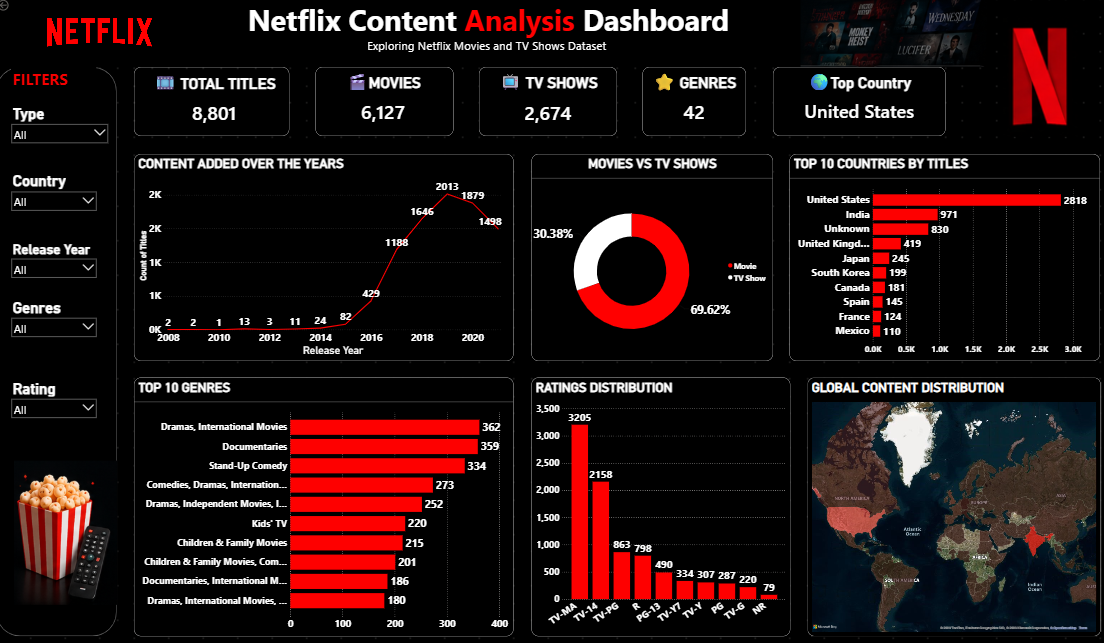

Layout of this report page (visuals, bound fields, positions):
{"tool":"powerbi","page":{"name":"Page 1","canvas":[3090,1820],"ordinal":0},"visuals":[{"type":"donutChart","title":"MOVIES VS TV SHOWS","fields":{"Y":["Count(netflix_titles.show_id)"],"Category":["netflix_titles.type"]},"box":[1488,432,672,576],"z":0},{"type":"barChart","title":"TOP 10 COUNTRIES BY TITLES","fields":{"Category":["netflix_titles.country"],"Y":["CountNonNull(netflix_titles.show_id)"]},"box":[2208,432,864,576],"z":1000},{"type":"barChart","title":"TOP 10 GENRES","fields":{"Category":["netflix_titles.listed_in"],"Y":["Count(netflix_titles.show_id)"]},"box":[384,1056,1056,720],"z":2000},{"type":"image","box":[0,0,576,192],"z":3000},{"type":"actionButton","box":[0,0,100,40],"z":4000},{"type":"cardVisual","title":"🎬MOVIES","fields":{"Data":["netflix_titles.Movies Count"]},"box":[888,192,384,192],"z":5000},{"type":"cardVisual","title":"⭐ GENRES","fields":{"Data":["Genres_table.Total Genres"]},"box":[1800,192,288,192],"z":6000},{"type":"cardVisual","title":"📺 TV SHOWS","fields":{"Data":["netflix_titles.TV Shows Count"]},"box":[1344,192,384,192],"z":7000},{"type":"cardVisual","title":"🌍Top Country","fields":{"Data":["netflix_titles.Top Netflix Country"]},"box":[2160,192,480,192],"z":8000},{"type":"textbox","box":[432,0,1872,192],"z":9000},{"type":"shape","box":[0,192,336,1584],"z":10000},{"type":"slicer","fields":{"Values":["netflix_titles.type"]},"box":[32,288,288,128],"z":11000},{"type":"slicer","fields":{"Values":["netflix_titles.release_year"]},"box":[32,672,256,160],"z":12000},{"type":"slicer","fields":{"Values":["netflix_titles.country"]},"box":[32,480,256,128],"z":13000},{"type":"slicer","fields":{"Values":["netflix_titles.listed_in"]},"box":[32,832,256,160],"z":14000},{"type":"clusteredColumnChart","title":"RATINGS DISTRIBUTION","fields":{"Category":["netflix_titles.rating"],"Y":["CountNonNull(netflix_titles.show_id)"]},"box":[1488,1056,720,720],"z":15000},{"type":"image","box":[48,1248,288,480],"z":16000},{"type":"cardVisual","title":"🎞️ TOTAL TITLES","fields":{"Data":["netflix_titles.Title count"]},"box":[384,192,432,192],"z":17000},{"type":"image","box":[1968,0,1056,192],"z":18000},{"type":"textbox","box":[41.4,193.3,237.5,80.1],"z":19000},{"type":"lineChart","title":"CONTENT ADDED OVER THE YEARS","fields":{"Category":["netflix_titles.date_added.Variation.Date Hierarchy.Year"],"Y":["CountNonNull(netflix_titles.show_id)"]},"box":[384,432,1056,576],"z":20000},{"type":"filledMap","title":"GLOBAL CONTENT DISTRIBUTION","fields":{"Category":["netflix_map.country_clean"]},"box":[2256,1056,816,720],"z":21000},{"type":"slicer","fields":{"Values":["netflix_titles.listed_in"]},"box":[32,1056,256,160],"z":22000},{"type":"image","box":[2736,48,336,336],"z":23000}]}

Visuals, with their boxes in screenshot pixels (x1, y1, x2, y2), scaled from the page's 3090x1820 canvas onto the 1104x643 screenshot:
"MOVIES VS TV SHOWS" donutChart: [x1=532, y1=153, x2=772, y2=356]
"TOP 10 COUNTRIES BY TITLES" barChart: [x1=789, y1=153, x2=1098, y2=356]
"TOP 10 GENRES" barChart: [x1=137, y1=373, x2=514, y2=627]
image: [x1=0, y1=0, x2=206, y2=68]
actionButton: [x1=0, y1=0, x2=36, y2=14]
"🎬MOVIES" cardVisual: [x1=317, y1=68, x2=454, y2=136]
"⭐ GENRES" cardVisual: [x1=643, y1=68, x2=746, y2=136]
"📺 TV SHOWS" cardVisual: [x1=480, y1=68, x2=617, y2=136]
"🌍Top Country" cardVisual: [x1=772, y1=68, x2=943, y2=136]
textbox: [x1=154, y1=0, x2=823, y2=68]
shape: [x1=0, y1=68, x2=120, y2=627]
slicer - netflix_titles.type: [x1=11, y1=102, x2=114, y2=147]
slicer - netflix_titles.release_year: [x1=11, y1=237, x2=103, y2=294]
slicer - netflix_titles.country: [x1=11, y1=170, x2=103, y2=215]
slicer - netflix_titles.listed_in: [x1=11, y1=294, x2=103, y2=350]
"RATINGS DISTRIBUTION" clusteredColumnChart: [x1=532, y1=373, x2=789, y2=627]
image: [x1=17, y1=441, x2=120, y2=610]
"🎞️ TOTAL TITLES" cardVisual: [x1=137, y1=68, x2=292, y2=136]
image: [x1=703, y1=0, x2=1080, y2=68]
textbox: [x1=15, y1=68, x2=100, y2=97]
"CONTENT ADDED OVER THE YEARS" lineChart: [x1=137, y1=153, x2=514, y2=356]
"GLOBAL CONTENT DISTRIBUTION" filledMap: [x1=806, y1=373, x2=1098, y2=627]
slicer - netflix_titles.listed_in: [x1=11, y1=373, x2=103, y2=430]
image: [x1=978, y1=17, x2=1098, y2=136]
